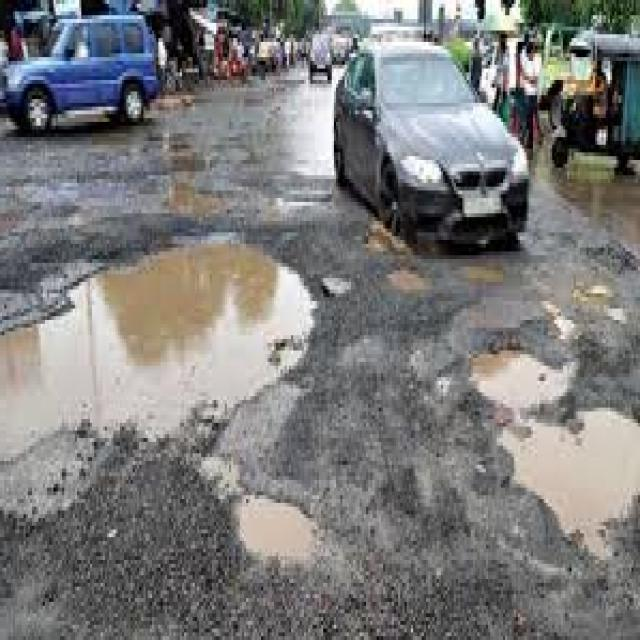Pothole: (0, 227, 333, 468), (463, 342, 638, 572), (228, 486, 319, 562), (386, 261, 434, 301)
